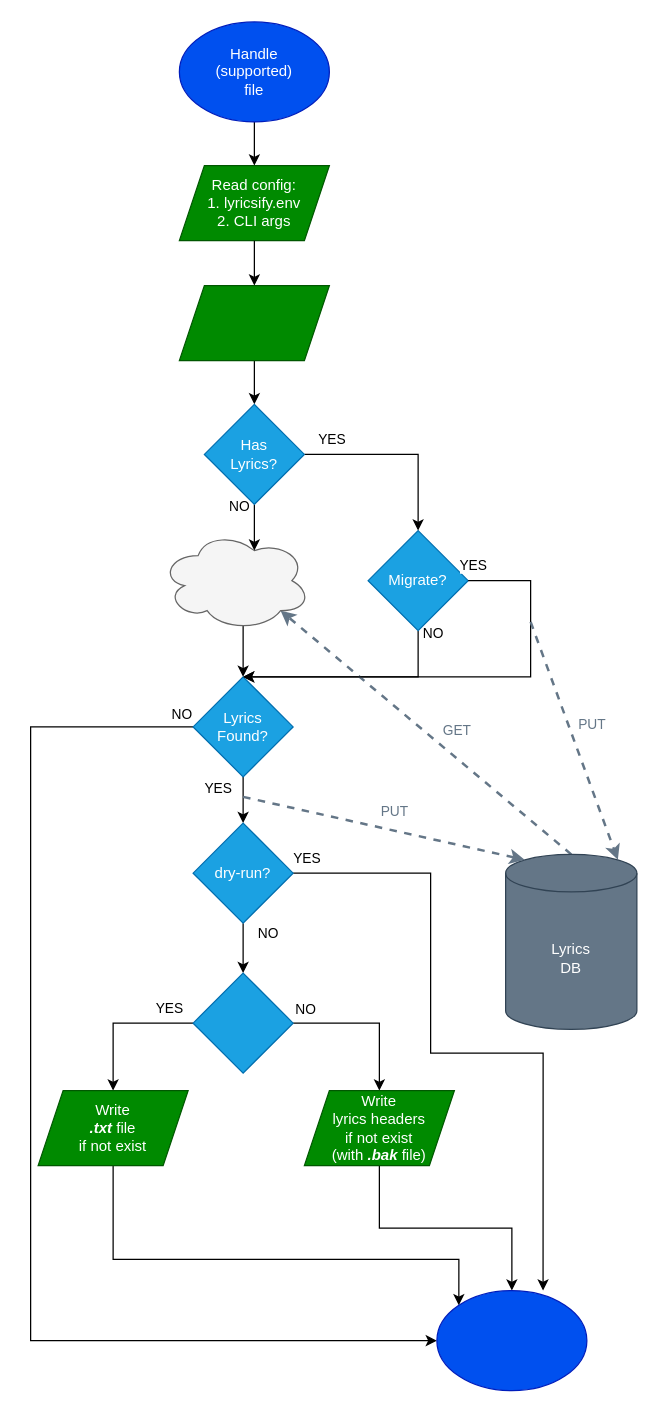
The diagram is 659 pixels wide and 1413 high, and some of its shapes have lost their labels. The shapes that lost their labels are listed below. From the top down, each one's centre as x and y in pixels, then its label:
At point (253, 322): "Read metadata from file".
At point (235, 580): "Fetch Lyrics local / remote".
At point (242, 1022): "Plex mode".
At point (511, 1340): "Done".
